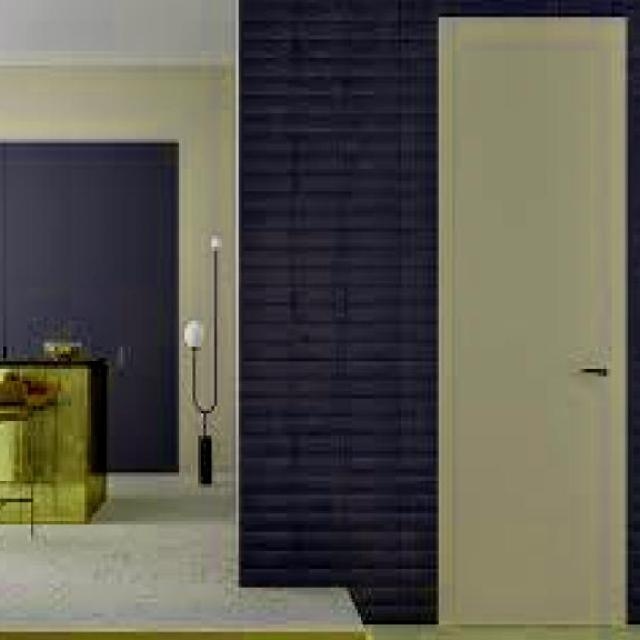door: (436, 14, 629, 626)
